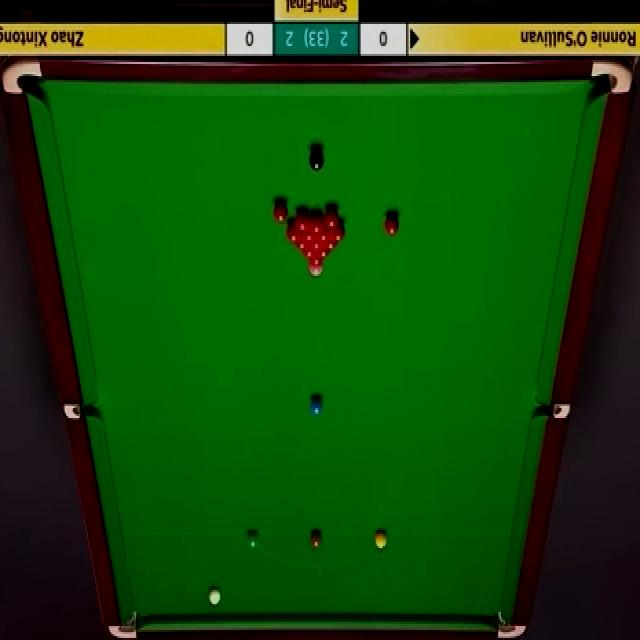black-ball: (310, 149, 326, 173)
blue-ball: (310, 398, 324, 415)
brown-ball: (310, 529, 322, 550)
green-ball: (245, 530, 260, 552)
pink-ball: (308, 262, 323, 276)
red-ball: (324, 207, 342, 230), (273, 200, 288, 223), (309, 213, 324, 235), (288, 222, 303, 244), (385, 214, 400, 236), (332, 221, 345, 243), (295, 210, 309, 230), (302, 221, 315, 242), (325, 239, 336, 251), (311, 238, 322, 250), (312, 253, 322, 265)
white-ball: (208, 586, 220, 606)
yellow-ball: (375, 530, 387, 550)
